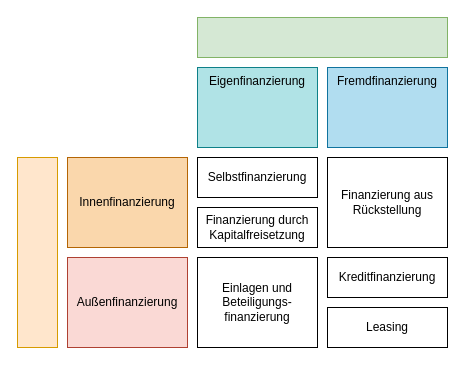
This 465x365 diagram has some shape labels left out. The centre of each missing label's shape, as x and y in pixels:
Kapitalherkunft: the point at 37,252
Rechtstellung des Kapitalgebers: the point at 322,37
